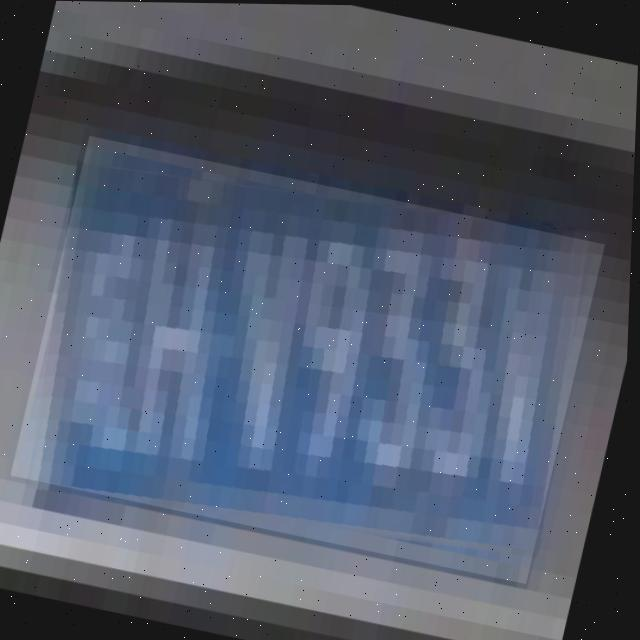LicensePlate: (11, 135, 610, 583)
